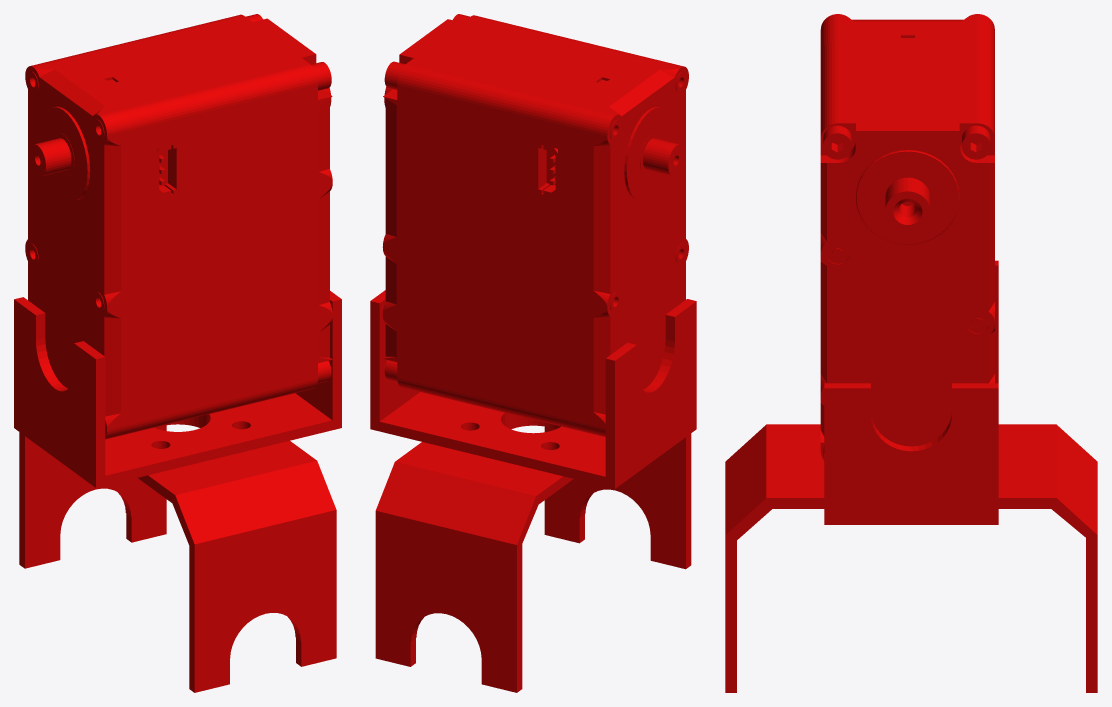
The picture shows the model from 3 angles, left to right: view 1: azimuth 30°, elevation 25°; view 2: azimuth 150°, elevation 25°; view 3: azimuth 270°, elevation 25°; orthographic projection. The views are drawn at different scales.
Visible parts, largest first — view 1: ID3; view 2: ID3; view 3: ID3.
Boxes of the visible parts, left/top/right/bottom form: ID3: left=14, top=14, right=341, bottom=692; ID3: left=370, top=14, right=696, bottom=692; ID3: left=725, top=14, right=1097, bottom=692.
Size of the model in its own units: 0.0598 by 0.0641 by 0.1109.
